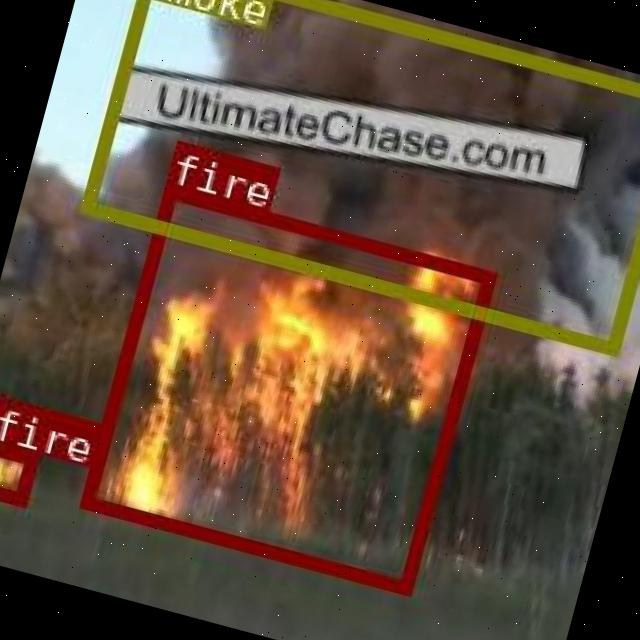fire: (79, 183, 492, 592), (0, 437, 36, 502)
smoke: (76, 0, 640, 353)
